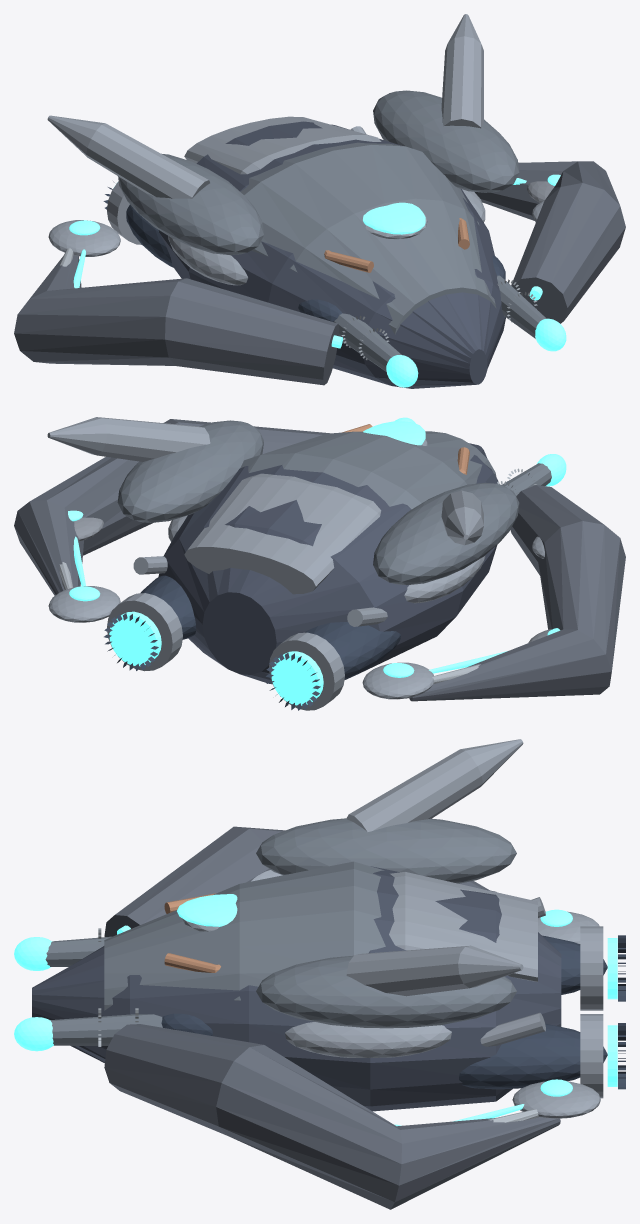
File: npc_sibelon.glb
3 views of the same model, one above another, from view 1: azimuth 30°, elevation 25°; view 2: azimuth 150°, elevation 25°; view 3: azimuth 270°, elevation 25° (orthographic). The views are drawn at different scales.
Visible parts, largest first — view 1: upper_armor_scar, armored_scythe_-1, keel_pressure_hull, armored_scythe_1, colossar_pylon_guard_1, colossar_pylon_guard_-1, colossar_radar_crest_-1, colossar_dorsal_fortress, colossar_radar_crest_1, heavy_shield_pad_-1, scythe_plate_-1_2, long_plasma_cannon_-1 (+8 smaller); view 2: keel_pressure_hull, armored_scythe_-1, colossar_dorsal_fortress, upper_armor_scar, armored_scythe_1, colossar_pylon_guard_1, colossar_pylon_guard_-1, colossar_radar_crest_1, engine_armor_-1, exhaust_coil_-1, exhaust_coil_1, exhaust_blue_1 (+14 smaller); view 3: armored_scythe_1, keel_pressure_hull, upper_armor_scar, colossar_pylon_guard_-1, colossar_pylon_guard_1, colossar_dorsal_fortress, armored_scythe_-1, colossar_radar_crest_-1, colossar_radar_crest_1, engine_armor_1, heavy_shield_pad_1, long_plasma_cannon_1 (+14 smaller).
Part boxes in pixels (bbox=[...]): upper_armor_scar: bbox=[241, 142, 496, 334]; armored_scythe_-1: bbox=[14, 255, 339, 385]; keel_pressure_hull: bbox=[158, 121, 505, 388]; armored_scythe_1: bbox=[475, 161, 625, 323]; colossar_pylon_guard_1: bbox=[373, 90, 519, 192]; colossar_pylon_guard_-1: bbox=[118, 153, 263, 255]; colossar_radar_crest_-1: bbox=[47, 115, 209, 198]; colossar_dorsal_fortress: bbox=[184, 116, 381, 174]; colossar_radar_crest_1: bbox=[441, 14, 483, 128]; heavy_shield_pad_-1: bbox=[168, 236, 247, 285]; scythe_plate_-1_2: bbox=[48, 220, 120, 256]; long_plasma_cannon_-1: bbox=[334, 313, 401, 371]; keel_pressure_hull: bbox=[158, 443, 499, 684]; armored_scythe_-1: bbox=[409, 485, 625, 701]; colossar_dorsal_fortress: bbox=[184, 473, 381, 594]; upper_armor_scar: bbox=[240, 431, 496, 509]; armored_scythe_1: bbox=[14, 419, 329, 595]; colossar_pylon_guard_1: bbox=[117, 420, 263, 522]; colossar_pylon_guard_-1: bbox=[373, 482, 519, 585]; colossar_radar_crest_1: bbox=[47, 417, 210, 461]; engine_armor_-1: bbox=[305, 622, 400, 679]; exhaust_coil_-1: bbox=[269, 632, 344, 710]; exhaust_coil_1: bbox=[107, 593, 182, 671]; exhaust_blue_1: bbox=[109, 611, 161, 666]; armored_scythe_1: bbox=[104, 1024, 560, 1209]; keel_pressure_hull: bbox=[32, 866, 561, 1111]; upper_armor_scar: bbox=[104, 861, 385, 1010]; colossar_pylon_guard_-1: bbox=[256, 818, 516, 883]; colossar_pylon_guard_1: bbox=[256, 955, 516, 1028]; colossar_dorsal_fortress: bbox=[389, 872, 537, 981]; armored_scythe_-1: bbox=[104, 826, 489, 936]; colossar_radar_crest_-1: bbox=[346, 739, 523, 831]; colossar_radar_crest_1: bbox=[346, 945, 523, 996]; engine_armor_1: bbox=[459, 1023, 607, 1089]; heavy_shield_pad_1: bbox=[285, 1022, 451, 1057]; long_plasma_cannon_1: bbox=[50, 1014, 162, 1045].
Bounding box in the file's own units: 5.31 × 1.82 × 4.25.
